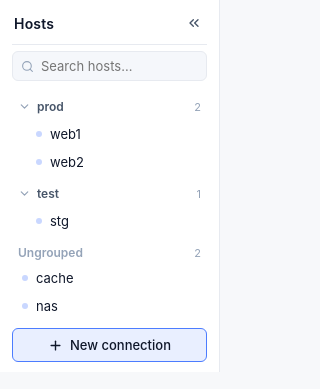
Test case: Drawer — search › Esc clears the search and brings everything back
This screenshot has width=320, height=389.
Type "web" into the field labelled "Search hosts" at (110, 66), box [12,51,207,81]
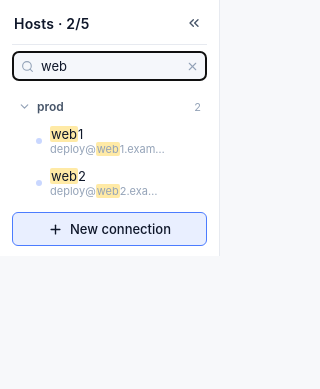
Press Escape
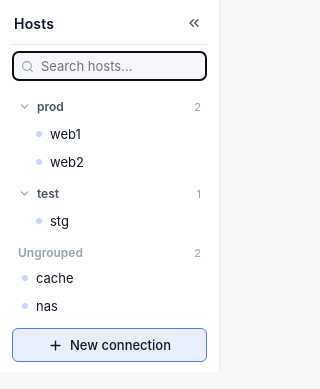
Result: the field labelled "Search hosts" is empty at [12,51,207,81]
Result: the button "cache" is shown at [14,264,175,292]
